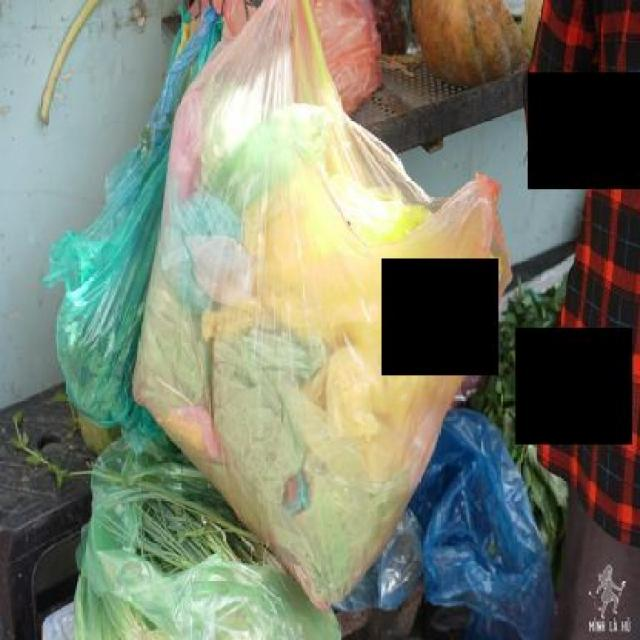plastic bag: (52, 14, 560, 638), (45, 42, 262, 460)
